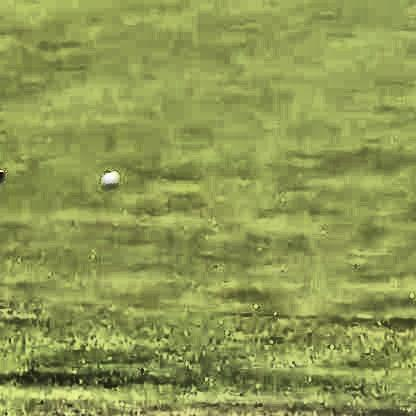golfball: (98, 166, 118, 186)
